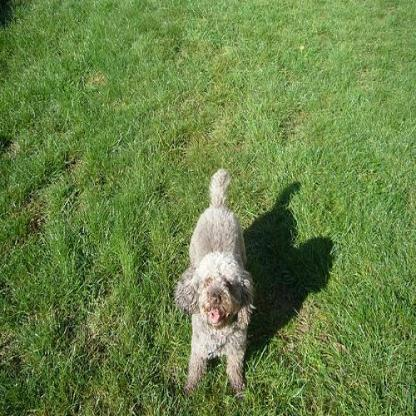miniature_poodle: (169, 166, 251, 400)
